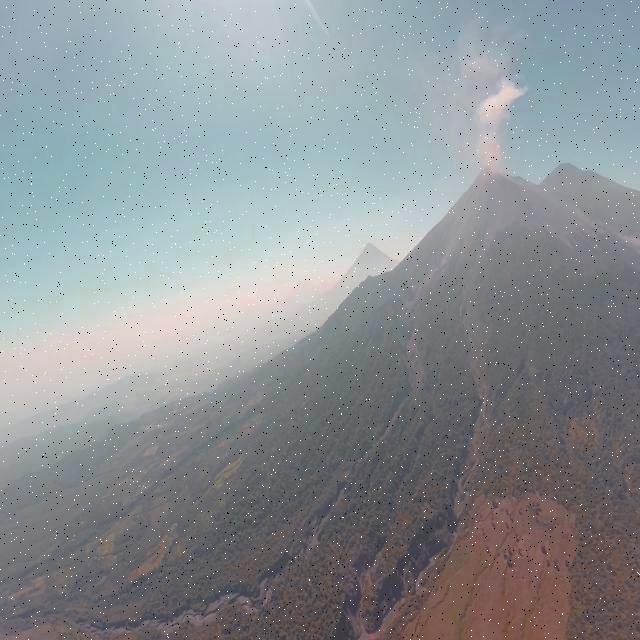Plume: (468, 74, 528, 179)
Summit: (473, 163, 510, 183)
